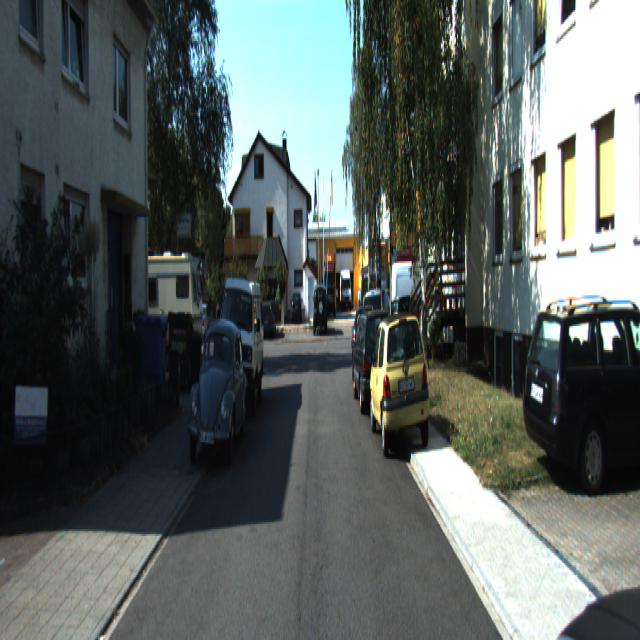Car: (524, 350, 640, 638), (518, 293, 640, 492), (108, 252, 210, 374), (181, 311, 250, 460), (368, 308, 431, 455), (214, 272, 265, 419), (351, 304, 400, 411), (390, 255, 450, 332), (314, 284, 328, 334)
